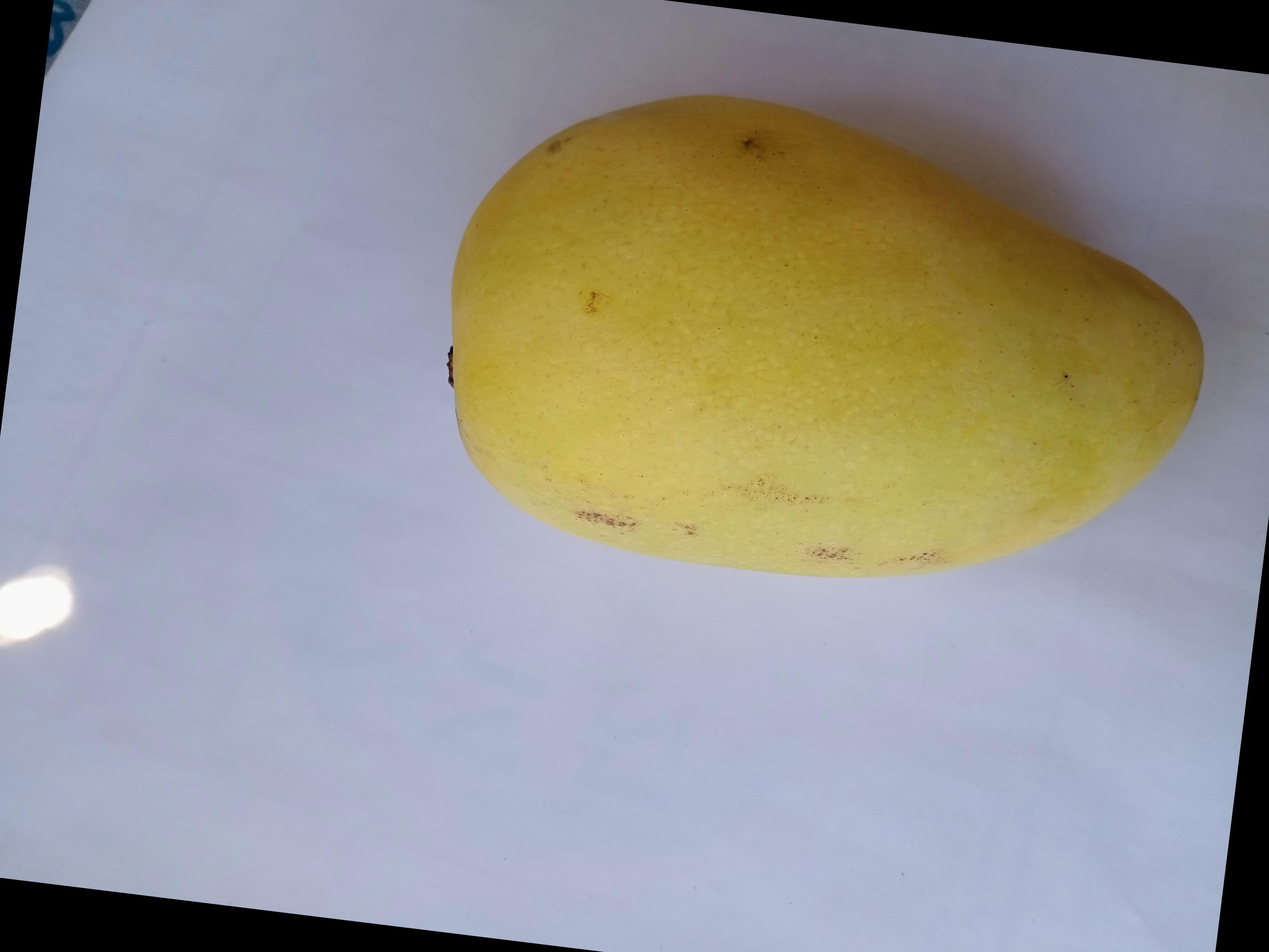Mango Ripe: (447, 0, 1269, 564)
